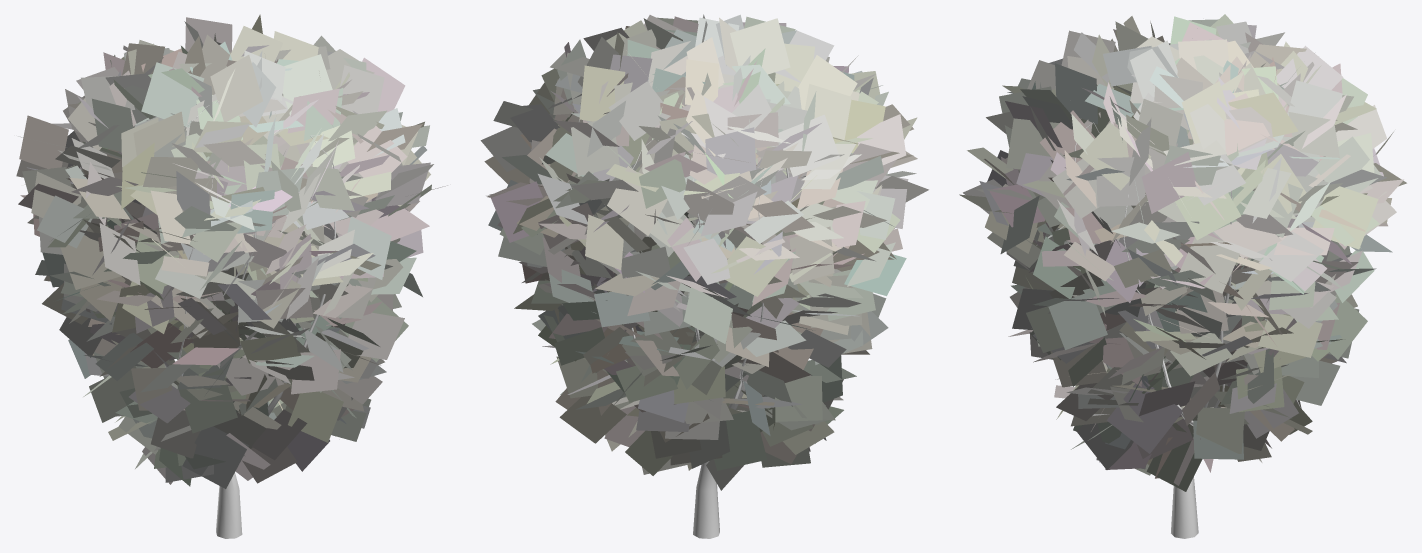
Rendered from keyaki_lod1_notex.glb.
3 renders of one model, left to right at view 1: azimuth 30°, elevation 25°; view 2: azimuth 150°, elevation 25°; view 3: azimuth 270°, elevation 25°, orthographic. The views are drawn at different scales.
Parts seen in each view (by area): view 1: keyaki_lod1_leaves, keyaki_lod1_bark; view 2: keyaki_lod1_leaves, keyaki_lod1_bark; view 3: keyaki_lod1_leaves, keyaki_lod1_bark.
Boxes of the visible parts, bbox=[...] form: keyaki_lod1_leaves: bbox=[16, 14, 447, 488]; keyaki_lod1_bark: bbox=[80, 101, 335, 538]; keyaki_lod1_leaves: bbox=[480, 14, 928, 490]; keyaki_lod1_bark: bbox=[578, 80, 789, 538]; keyaki_lod1_leaves: bbox=[959, 14, 1406, 491]; keyaki_lod1_bark: bbox=[1074, 118, 1232, 538].
Bounding box in the file's own units: 15.61 × 19.4 × 15.83.
